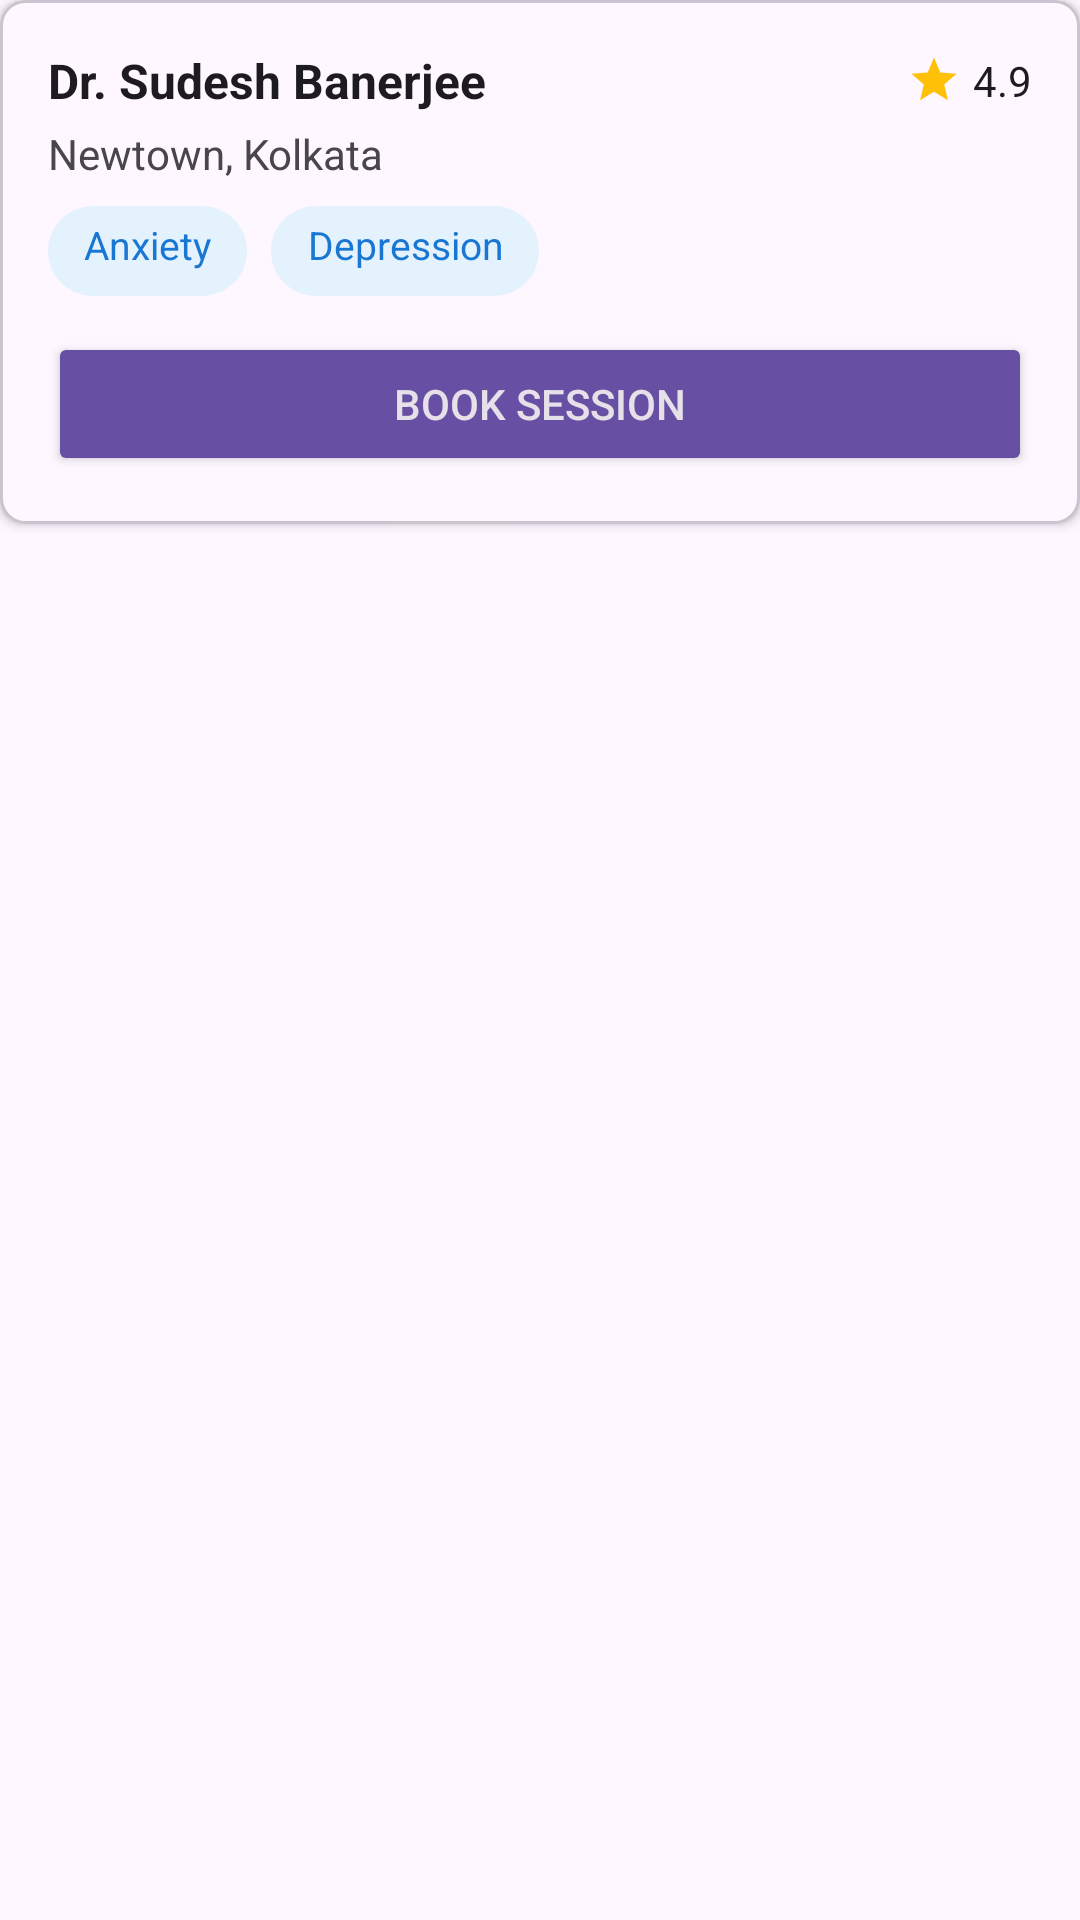

Where icons sit on this 1080*1920 app screen, as (x1, y1, x2, y2):
star: (912, 58, 956, 100)
